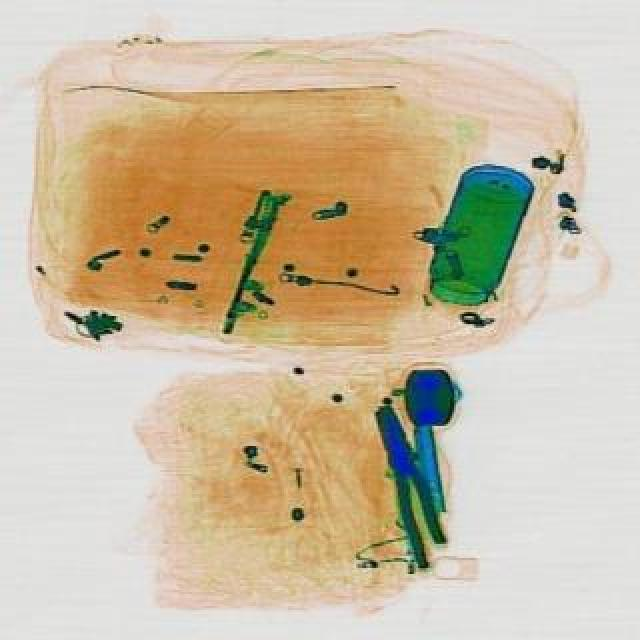wrench: (368, 402, 448, 568)
